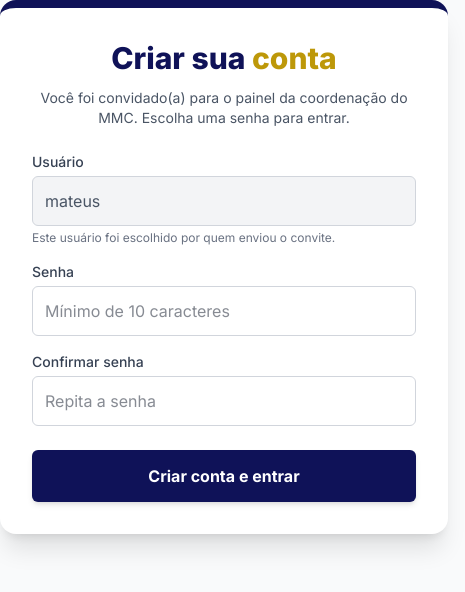
Test: formulário do convite › senhas diferentes: o aviso aparece ao lado do campo e nada é enviado
This screenshot has width=465, height=592.
Type "uma-senha-boa-123" into the password field with placeholder "Mínimo de 10 caracteres".
click(224, 311); type("uma-senha-boa-123")  # box [32,286,416,336]
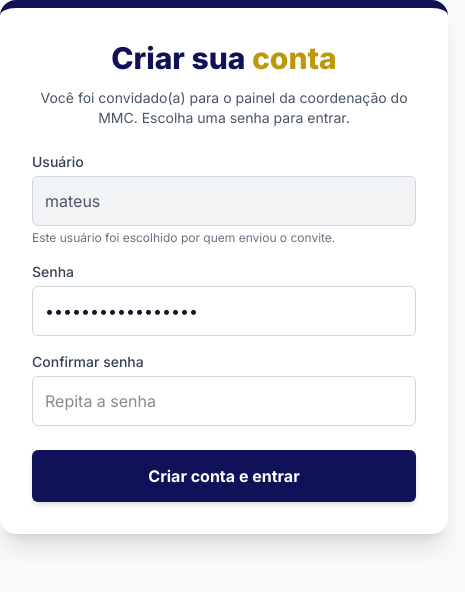
Type "outra-senha-boa-456" into the password field with placeholder "Repita a senha".
click(224, 401); type("outra-senha-boa-456")  # box [32,376,416,426]
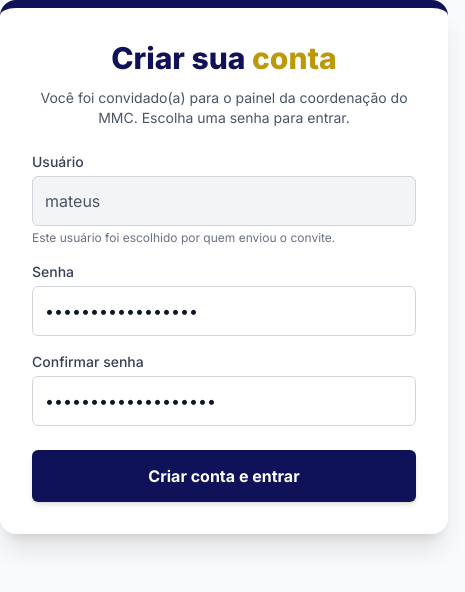
Submit the form, box [32,152,416,502]
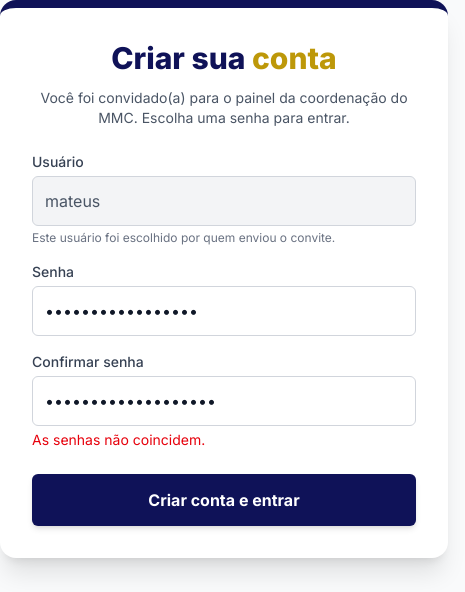
Now the text "As senhas não coincidem." is shown, box [32,431,205,448]
